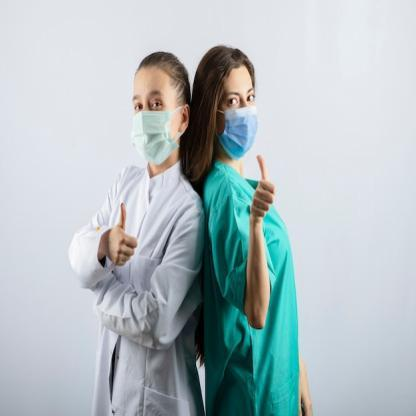thumb_up: (248, 150, 282, 222), (107, 200, 140, 271)
